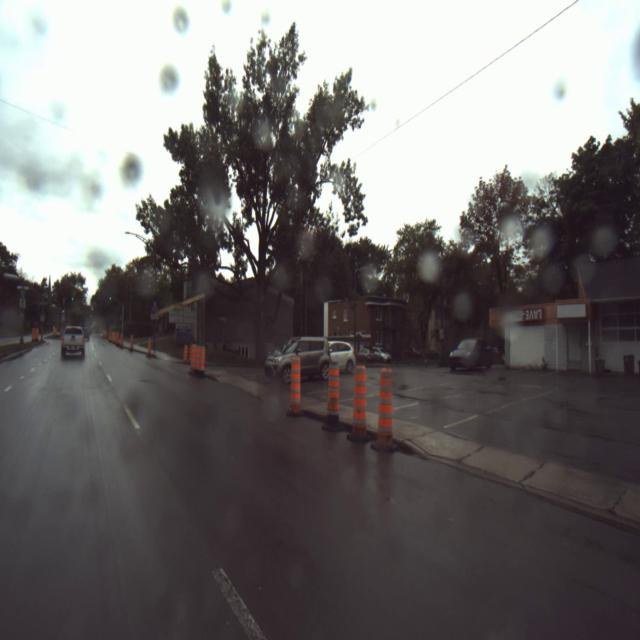car: (264, 336, 330, 384), (449, 338, 490, 374), (329, 340, 356, 376), (60, 326, 86, 362), (372, 344, 390, 362), (358, 345, 370, 363)
